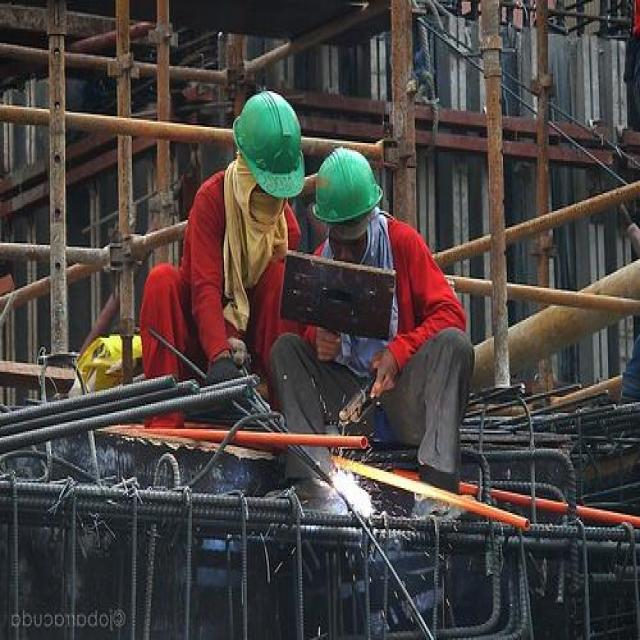Safety-Helmet: (230, 84, 308, 197), (312, 143, 386, 227)
